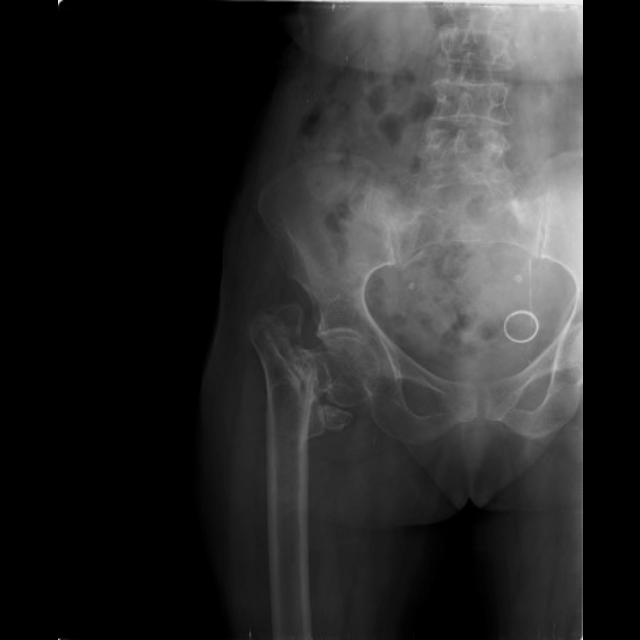fractured: (274, 341, 339, 408)
